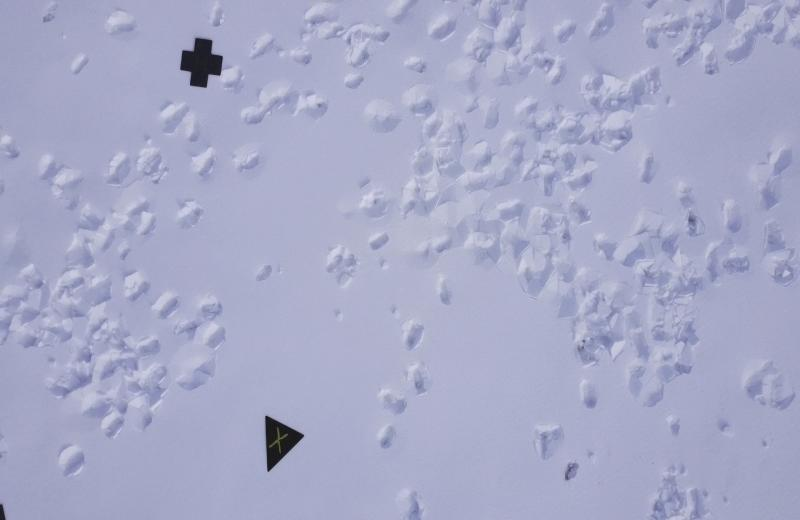Cross: (180, 37, 223, 87)
Triangle: (257, 416, 303, 473)
